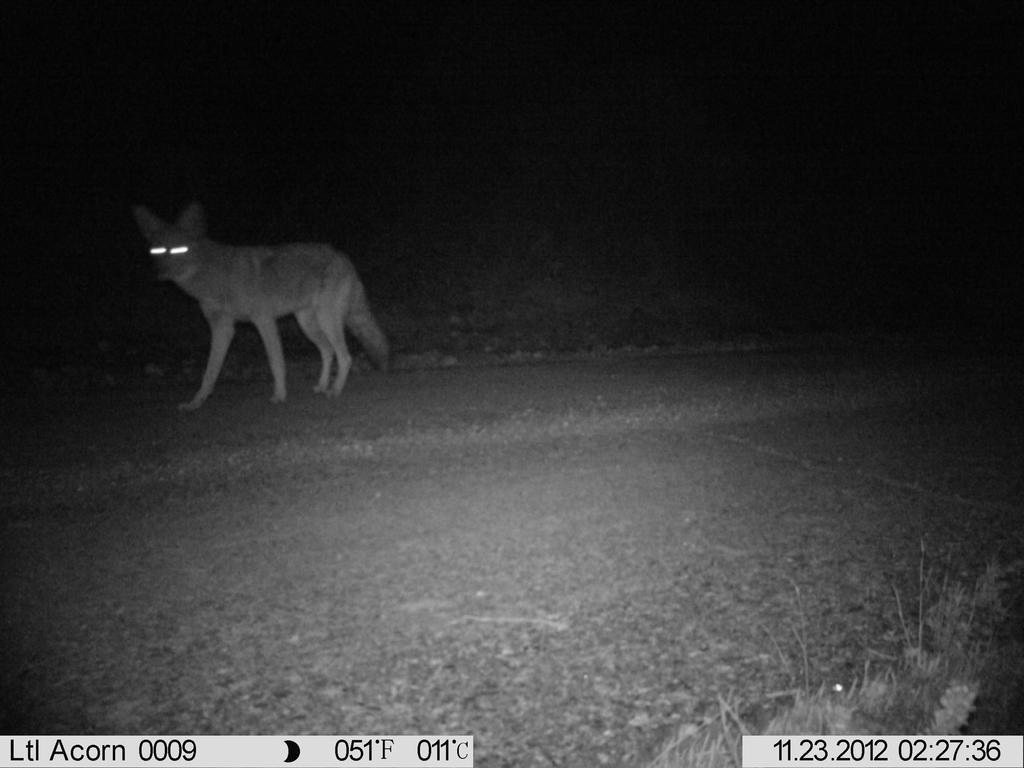coyote: (125, 191, 397, 414)
